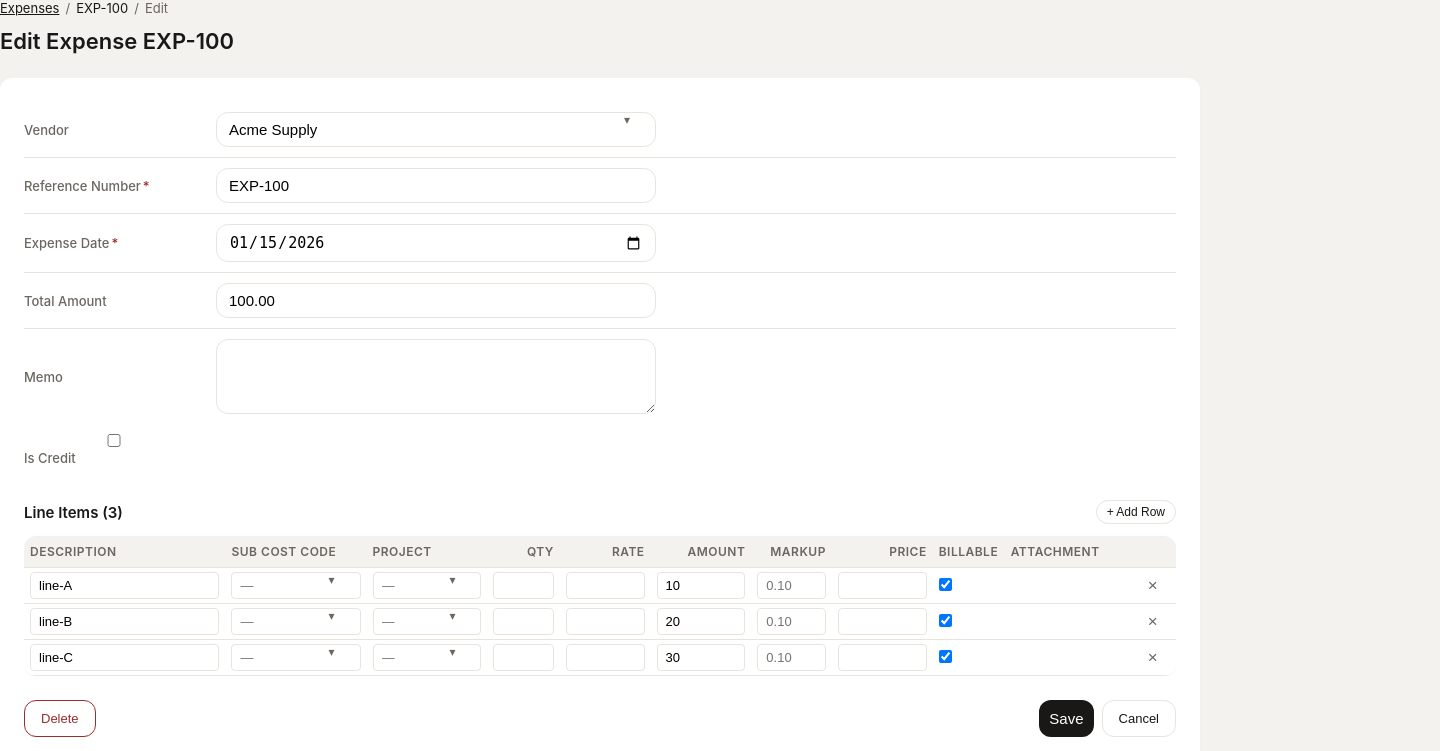
it: ExpenseEdit receipt re-homing on line delete (U-171 / U-476) › aborts with ZERO creates and ZERO deletes when two different receipts compete for one link-free survivor
Click the 1st button titled "Remove" at x=1153, y=586, box [1142, 575, 1164, 596]
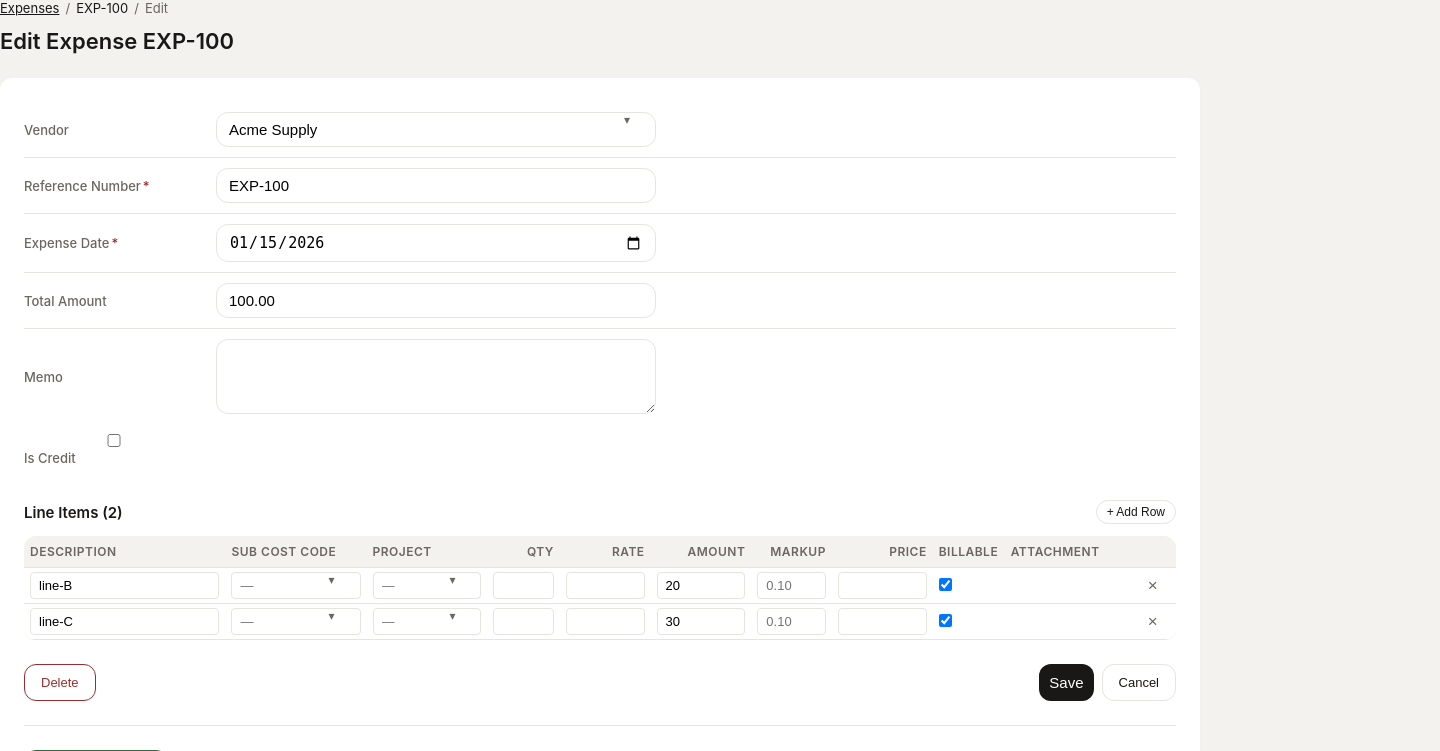
Click the 1st button titled "Remove" at x=1153, y=586, box [1142, 575, 1164, 596]
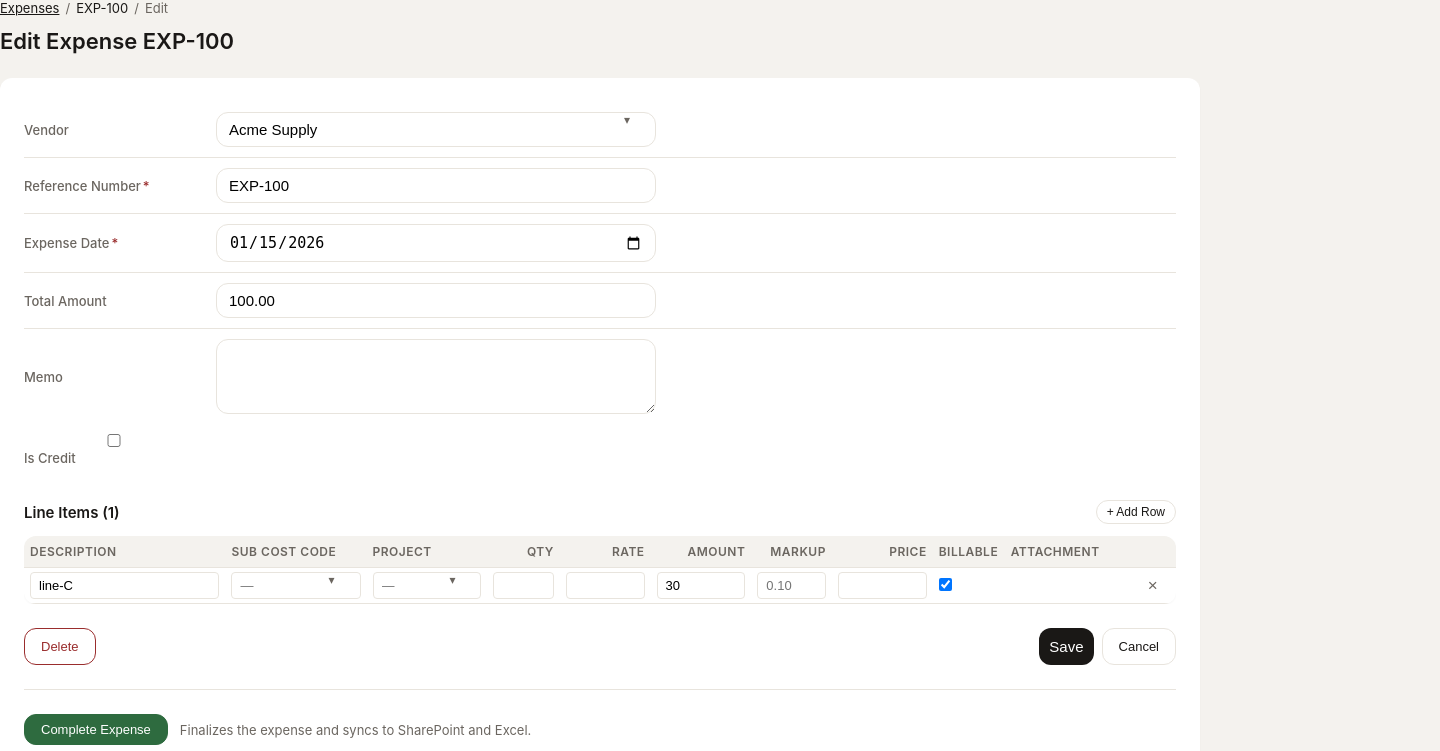
Click the button "Save" at x=1066, y=646, box [1039, 628, 1094, 665]
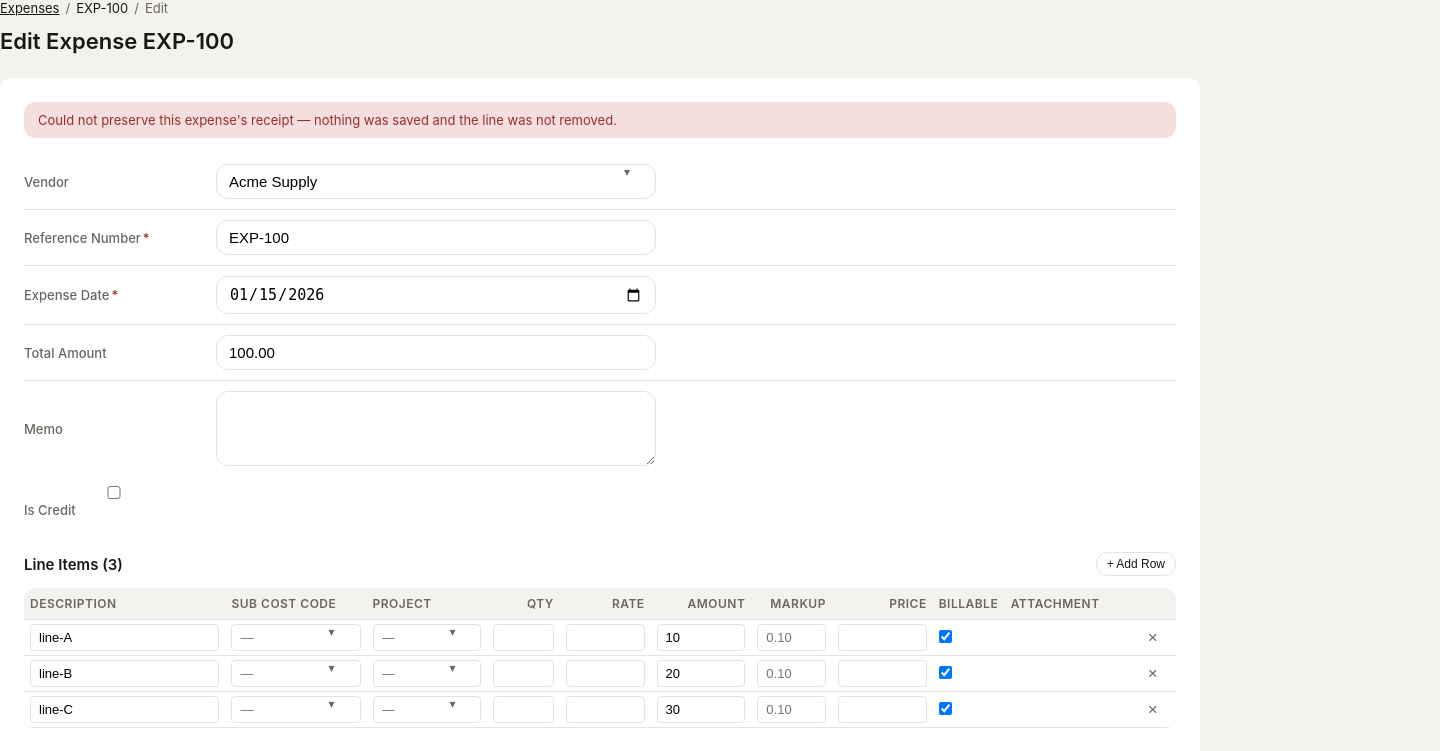
Check: the text "Could not preserve this expense's receipt — nothing was saved and the line was not removed." is shown, box [38, 112, 617, 128]
